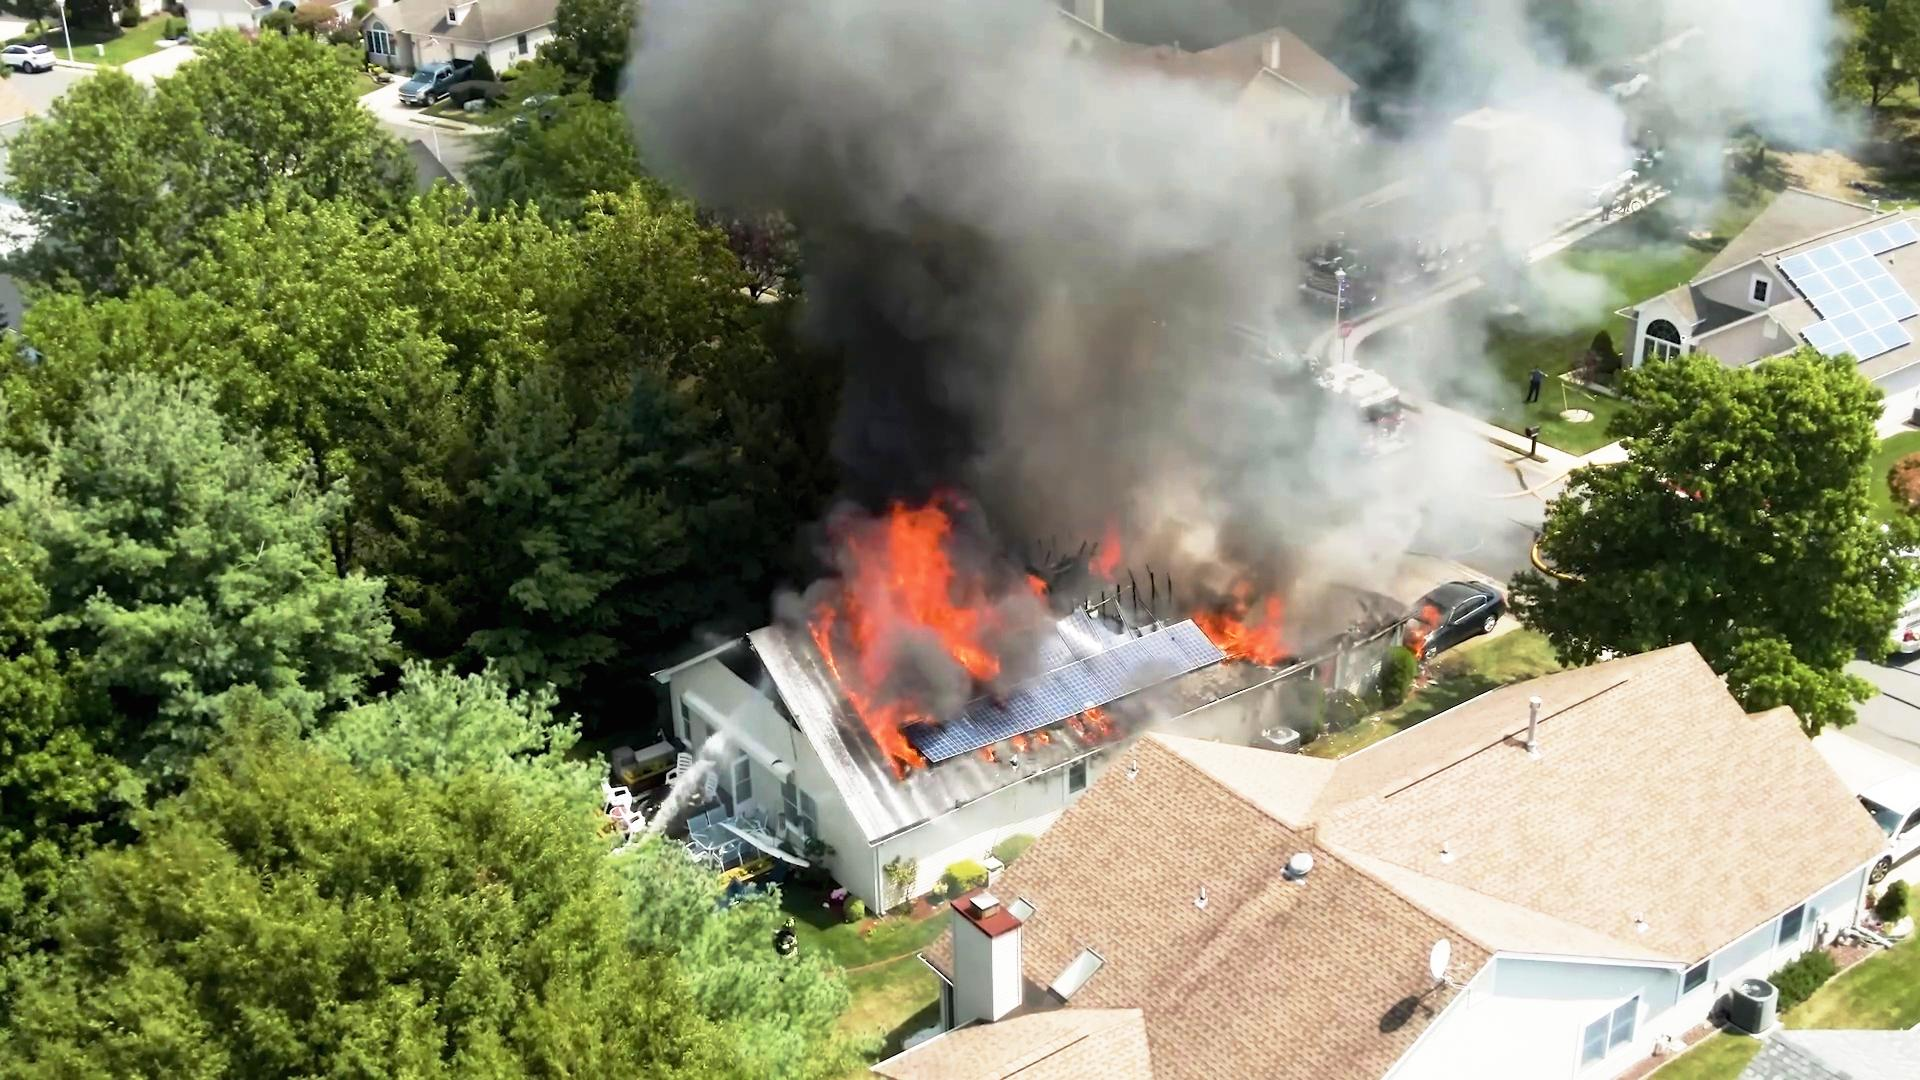fire: (779, 485, 985, 754), (1172, 596, 1288, 670)
smoke: (1013, 69, 1255, 522), (628, 0, 1051, 214)
